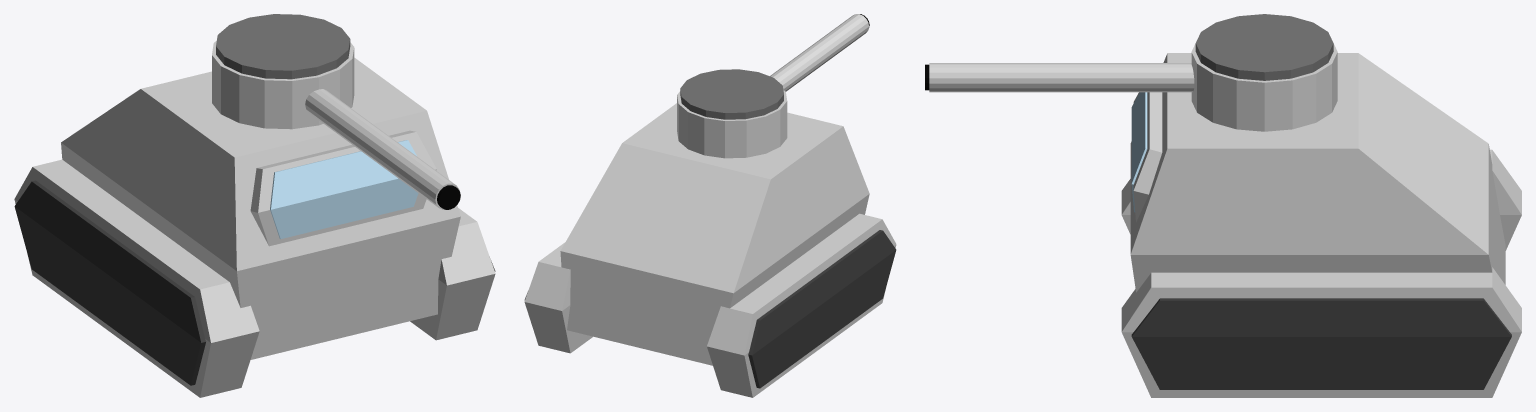
Rendered from tankette.gltf.
The picture shows the model from 3 angles, left to right: view 1: azimuth 30°, elevation 25°; view 2: azimuth 150°, elevation 25°; view 3: azimuth 270°, elevation 25°; orthographic projection. The views are drawn at different scales.
Parts seen in each view (by area): view 1: Cube, Cube.006, Cube.001, Cube.004, Cylinder.002, Cylinder, Cube.002, Cylinder.001, Cube.003, Cylinder.003; view 2: Cube, Cube.006, Cube.001, Cylinder, Cylinder.002, Cube.002, Cylinder.001; view 3: Cube, Cube.005, Cube.002, Cylinder.001, Cylinder, Cylinder.002, Cube.001, Cube.003, Cube.004.
Part boxes in pixels (x1=…): Cube: x1=61, y1=57, x2=460, y2=359; Cube.006: x1=14, y1=180, x2=205, y2=385; Cube.001: x1=14, y1=159, x2=259, y2=397; Cube.004: x1=270, y1=140, x2=418, y2=239; Cylinder.002: x1=216, y1=14, x2=350, y2=79; Cylinder: x1=212, y1=40, x2=354, y2=129; Cube.002: x1=410, y1=208, x2=495, y2=340; Cylinder.001: x1=305, y1=89, x2=459, y2=209; Cube.003: x1=250, y1=130, x2=436, y2=246; Cylinder.003: x1=437, y1=185, x2=460, y2=209; Cube: x1=560, y1=103, x2=869, y2=365; Cube.006: x1=748, y1=230, x2=896, y2=388; Cube.001: x1=707, y1=213, x2=896, y2=397; Cylinder: x1=677, y1=90, x2=787, y2=158; Cylinder.002: x1=680, y1=69, x2=783, y2=119; Cube.002: x1=524, y1=242, x2=592, y2=353; Cylinder.001: x1=770, y1=14, x2=868, y2=91; Cube: x1=1130, y1=53, x2=1505, y2=292; Cube.005: x1=1131, y1=298, x2=1511, y2=389; Cube.002: x1=1121, y1=267, x2=1521, y2=397; Cylinder.001: x1=929, y1=63, x2=1194, y2=92; Cylinder: x1=1191, y1=40, x2=1337, y2=131; Cylinder.002: x1=1195, y1=14, x2=1333, y2=80; Cube.001: x1=1121, y1=149, x2=1521, y2=250; Cube.003: x1=1133, y1=92, x2=1162, y2=222; Cube.004: x1=1131, y1=92, x2=1147, y2=212.
Bounding box in the file's own units: 2.84 × 2.59 × 4.9.
